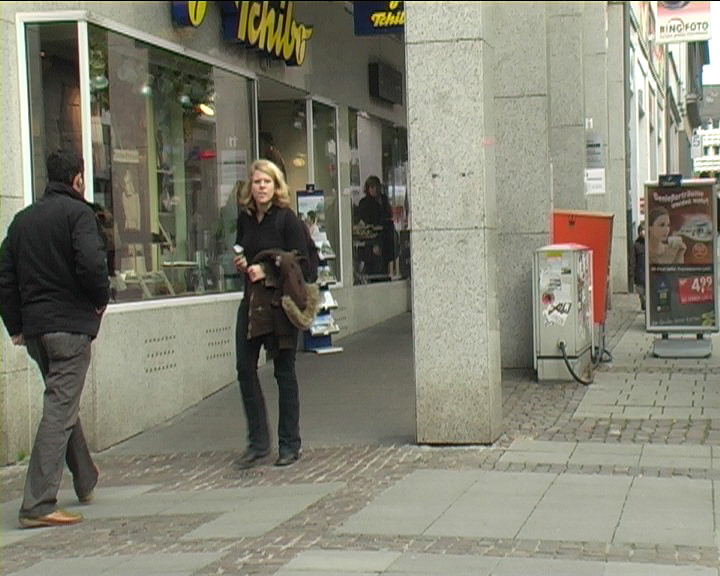deflection: (240, 157, 297, 236)
undeflect: (22, 146, 102, 234)
